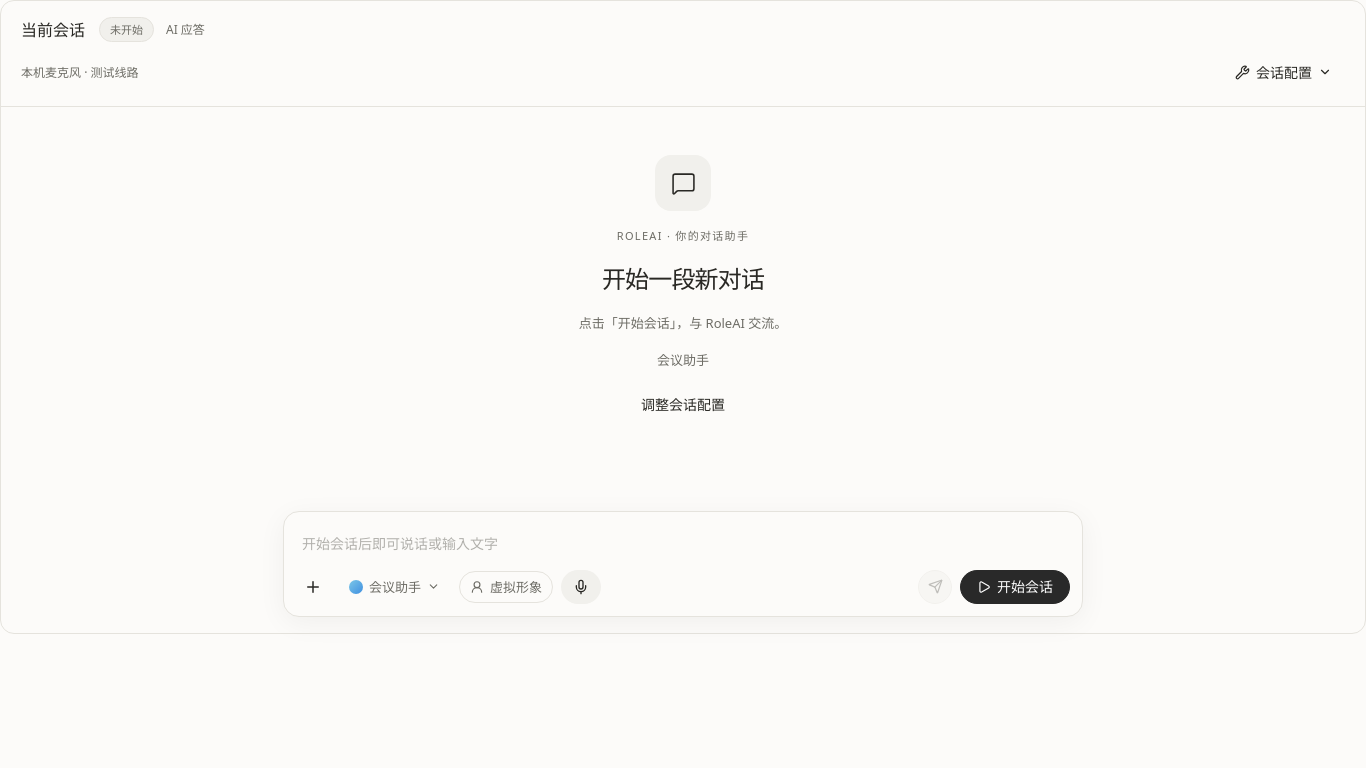
Test case: WorkspaceSession › avatar switch › marks roles that have a video face in the role menu
The width and height of the screenshot is (1366, 768).
Click the button with aria-label "角色": [394, 587] box x1=338 y1=571 x2=451 y2=603
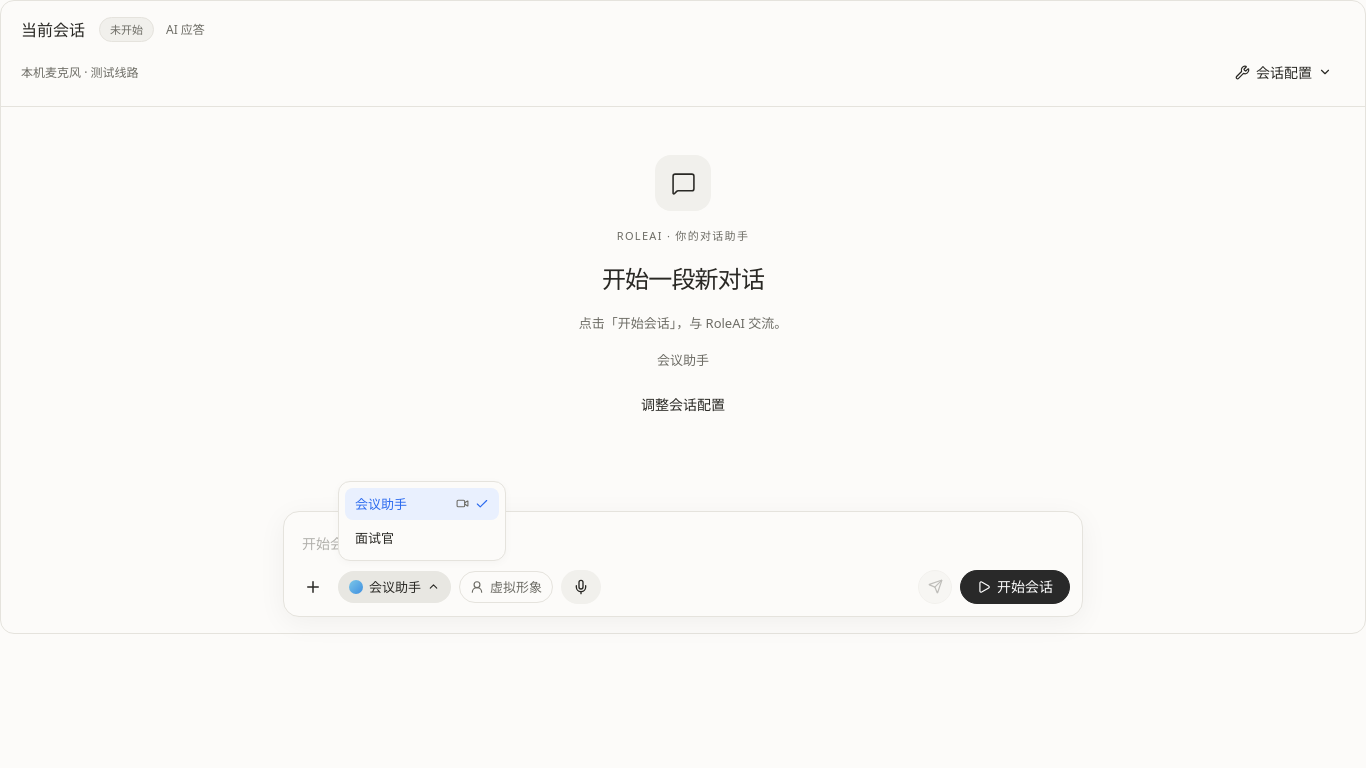
Expected: the option "会议助手" is shown, x1=345 y1=488 x2=499 y2=520
Expected: the picture named "有视频形象" is shown, x1=456 y1=498 x2=469 y2=510
Expected: the option "面试官" is shown, x1=345 y1=522 x2=499 y2=554
